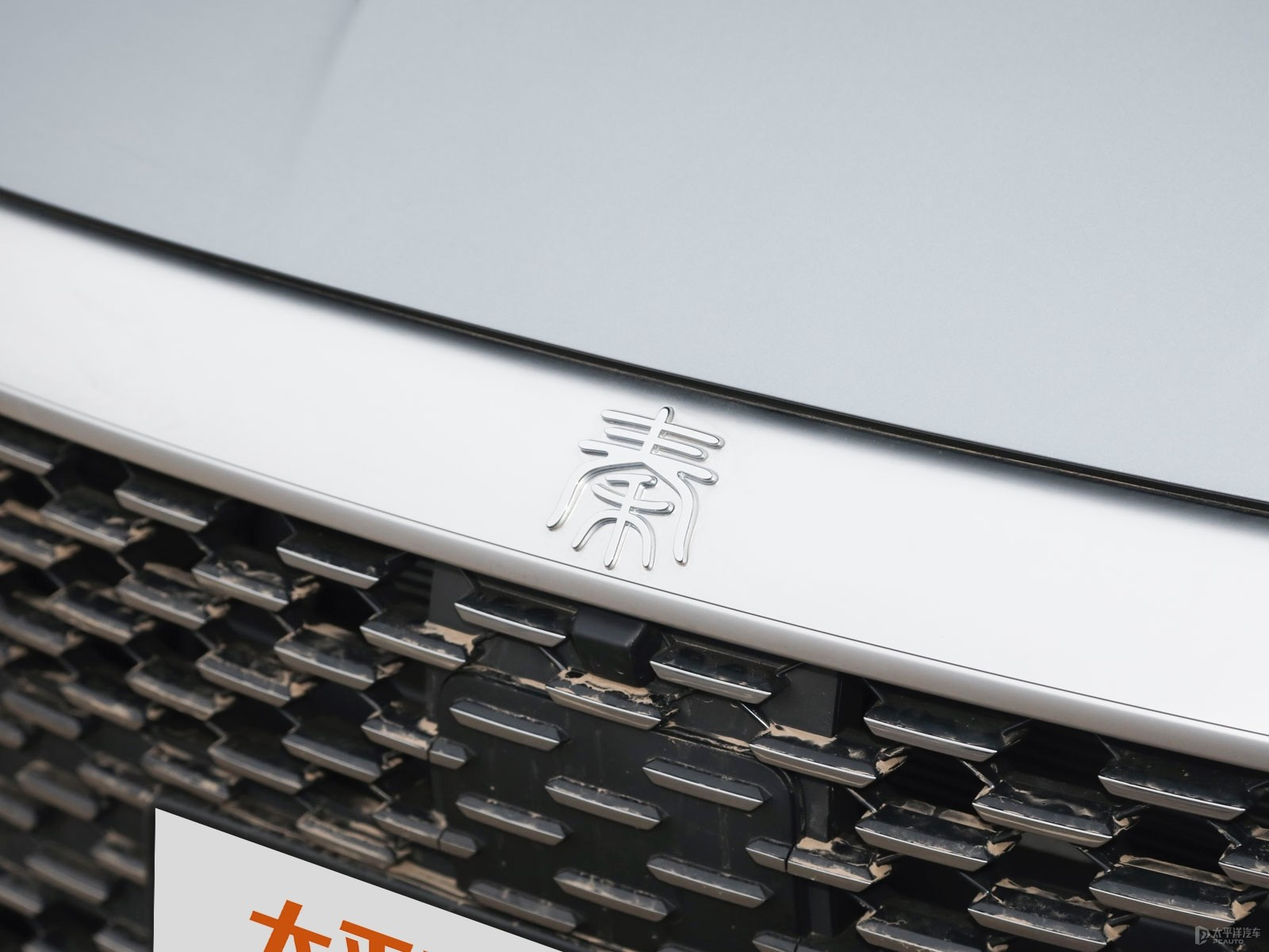BYD Qin: (547, 407, 724, 570)
